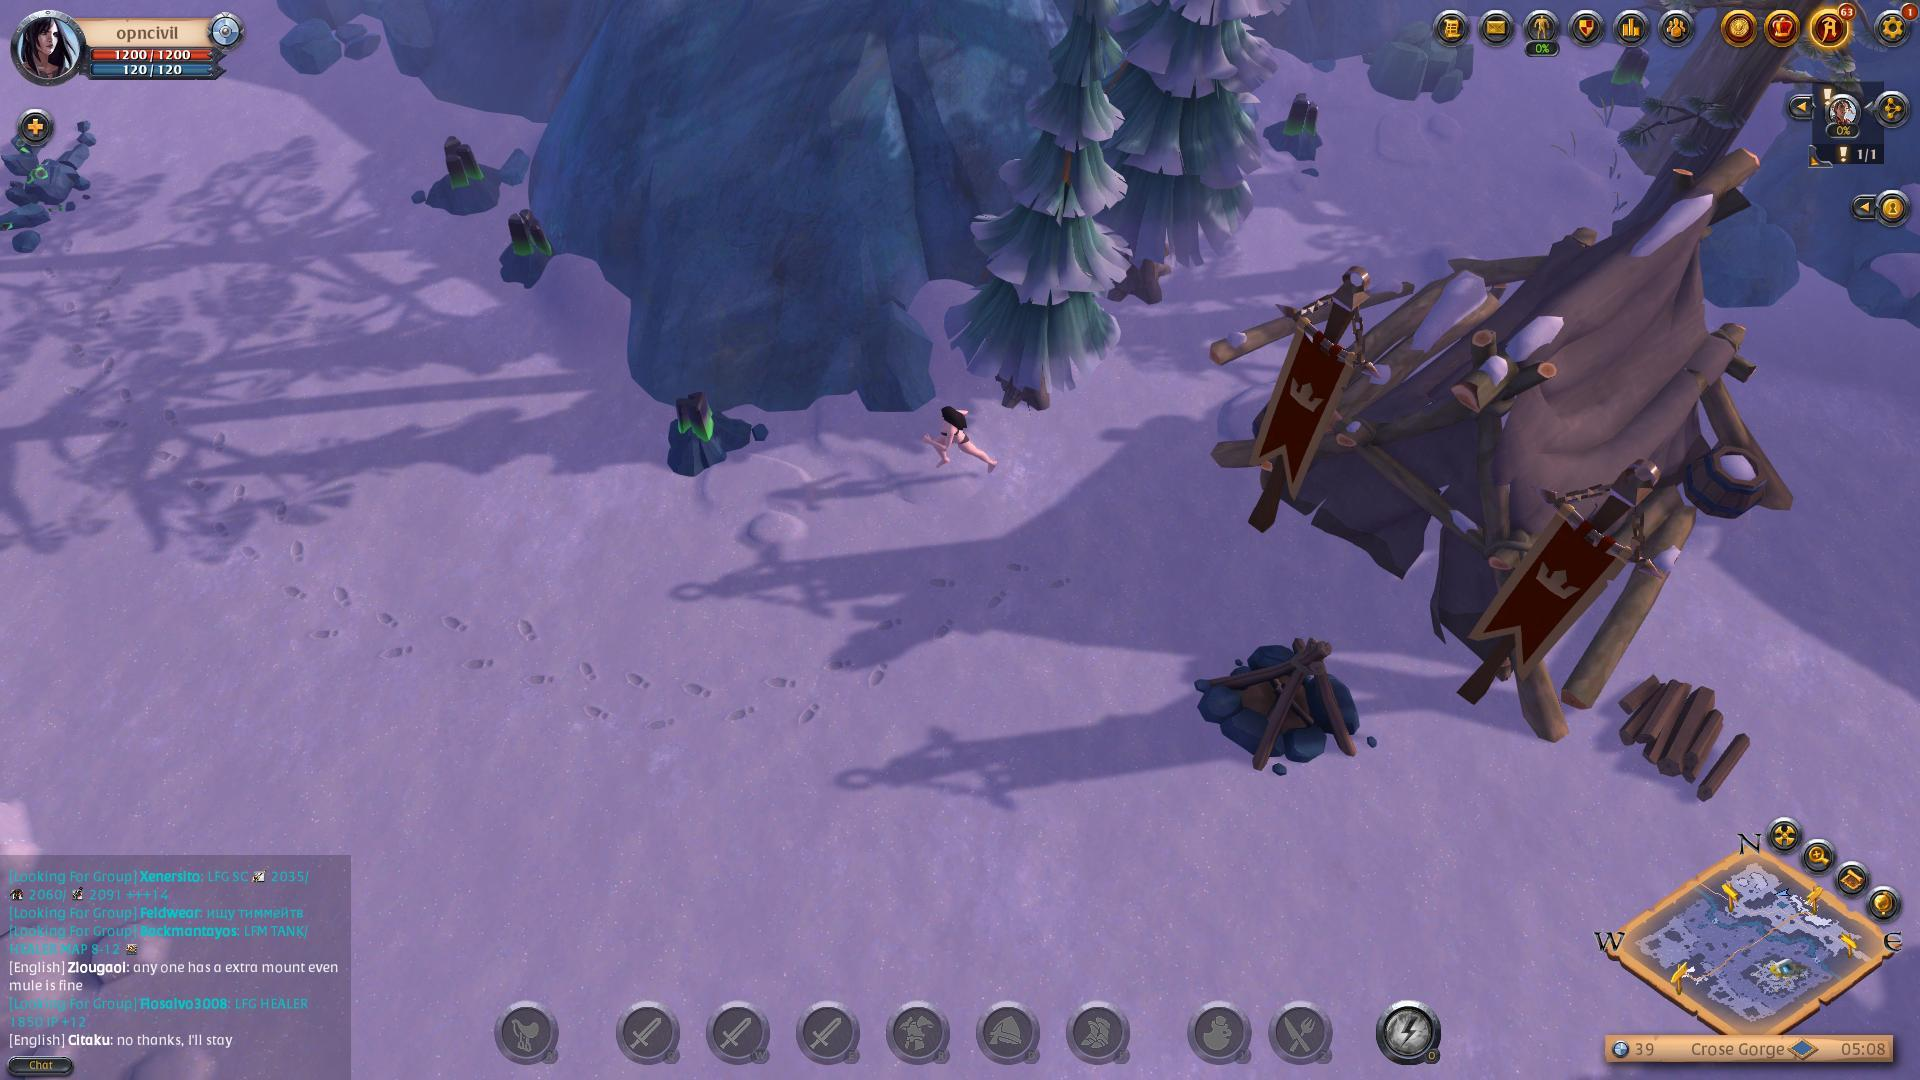sandstone: (1361, 20, 1487, 117)
tin_ore: (659, 373, 765, 492), (423, 119, 510, 222), (491, 202, 560, 303), (1265, 90, 1327, 178), (1590, 42, 1663, 115)
